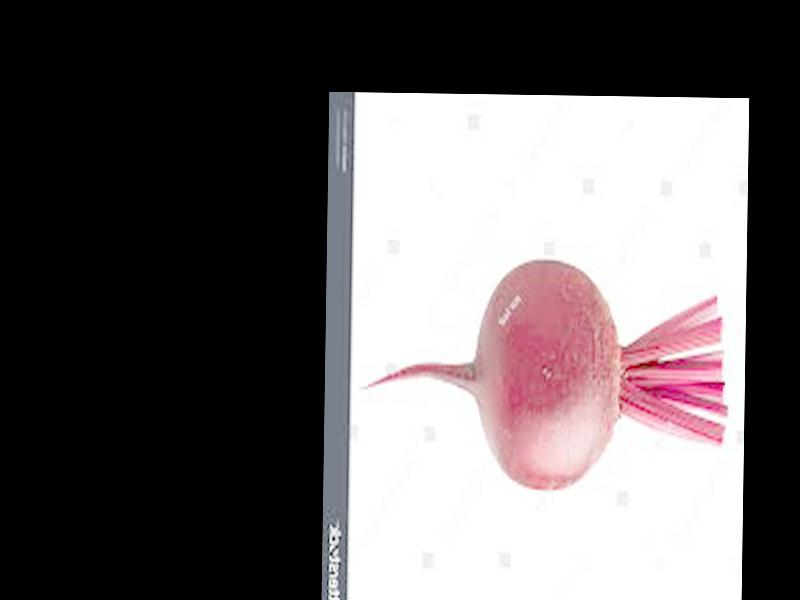Beet: (359, 257, 728, 492)
